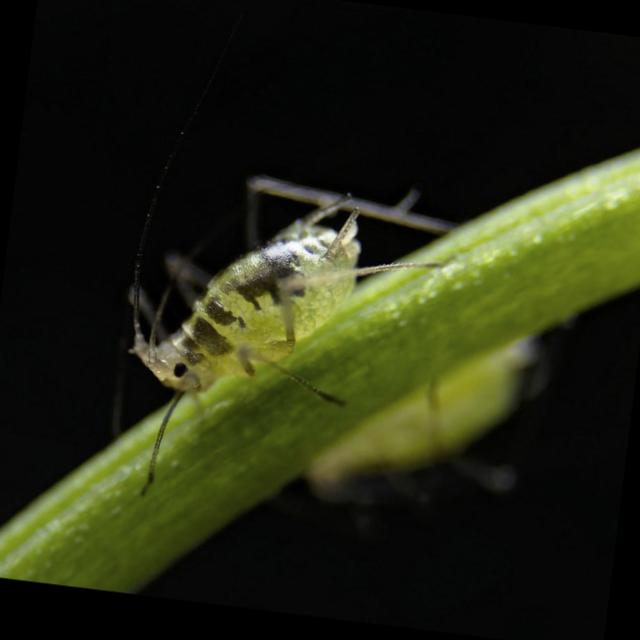Aphids: (92, 148, 426, 514)
